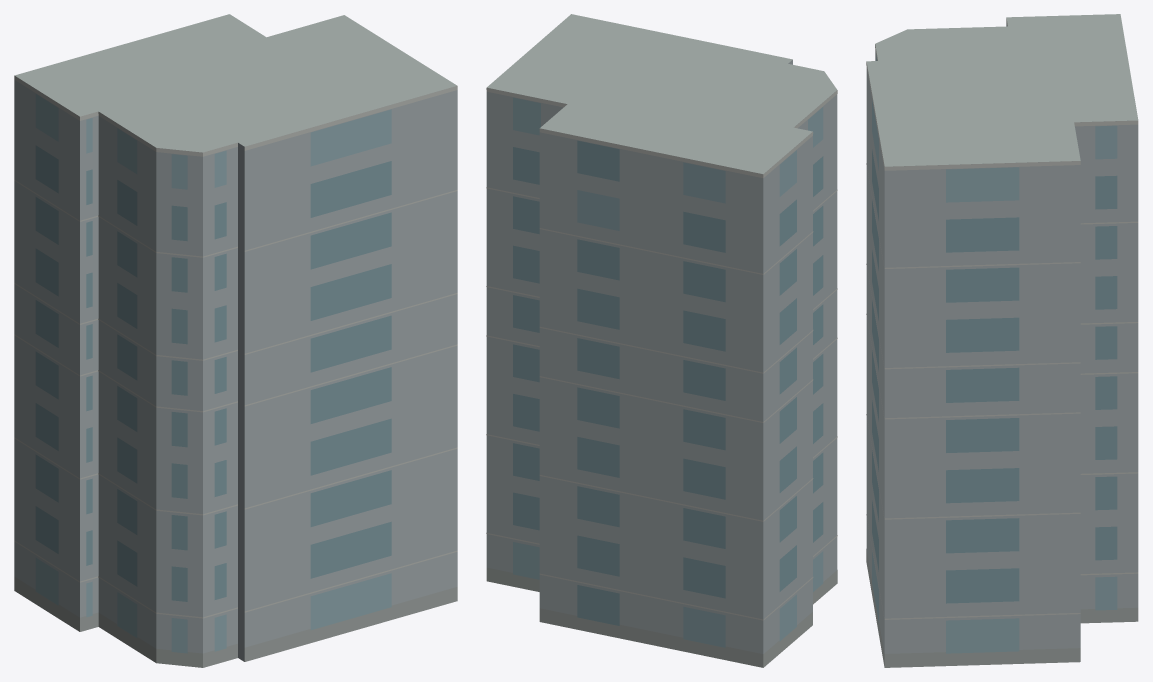
The model's file is survey-upis-32677819.glb.
3 renders of one model, left to right at view 1: azimuth 30°, elevation 25°; view 2: azimuth 150°, elevation 25°; view 3: azimuth 270°, elevation 25°, orthographic. The views are drawn at different scales.
Visible parts, largest first — view 1: survey-upis-32677819.tmp; view 2: survey-upis-32677819.tmp; view 3: survey-upis-32677819.tmp.
Boxes of the visible parts, bbox=[...] form: survey-upis-32677819.tmp: bbox=[14, 14, 457, 667]; survey-upis-32677819.tmp: bbox=[486, 14, 837, 667]; survey-upis-32677819.tmp: bbox=[866, 14, 1138, 667].
Bounding box in the file's own units: 19.43 × 29.7 × 14.63.
